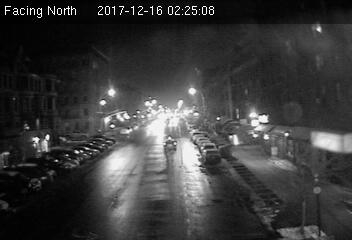car: (202, 149, 221, 163), (163, 136, 178, 152)
